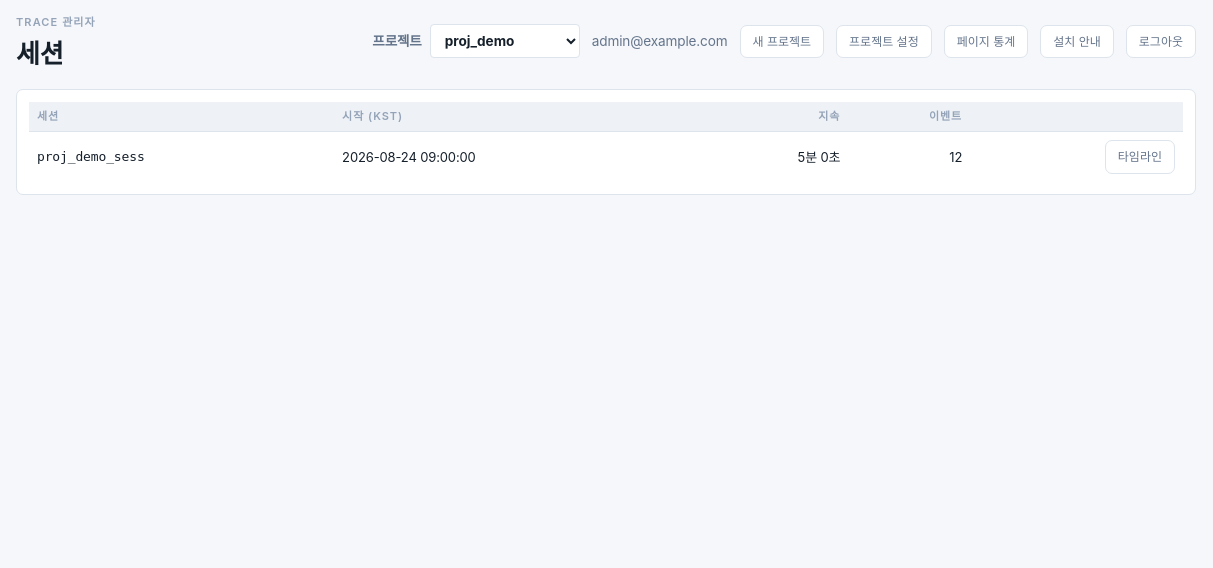
Test: App 프로젝트 전환 동작 › 전환 후 프로젝트 설정 조회는 새 프로젝트 ID를 사용한다
Select "proj_second" in the dropdown labelled "프로젝트" at (505, 41), box left=430, top=24, right=580, bottom=58
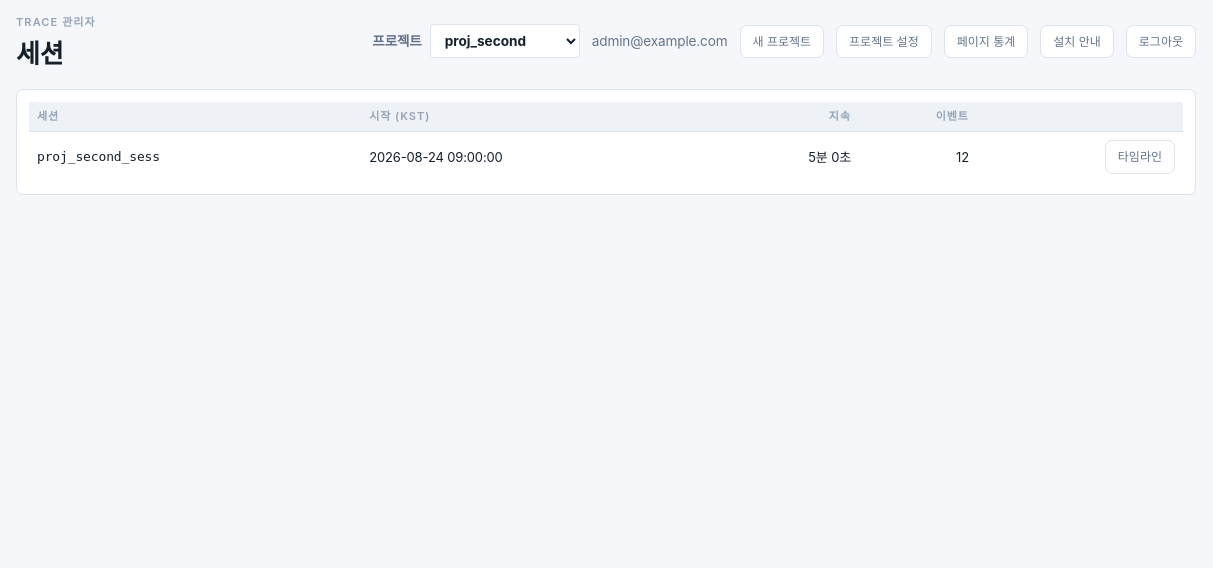
Check: the text "proj_second_sess" is shown, box left=37, top=149, right=160, bottom=164
Click the button "프로젝트 설정".
click(884, 41)  # box left=836, top=25, right=932, bottom=58
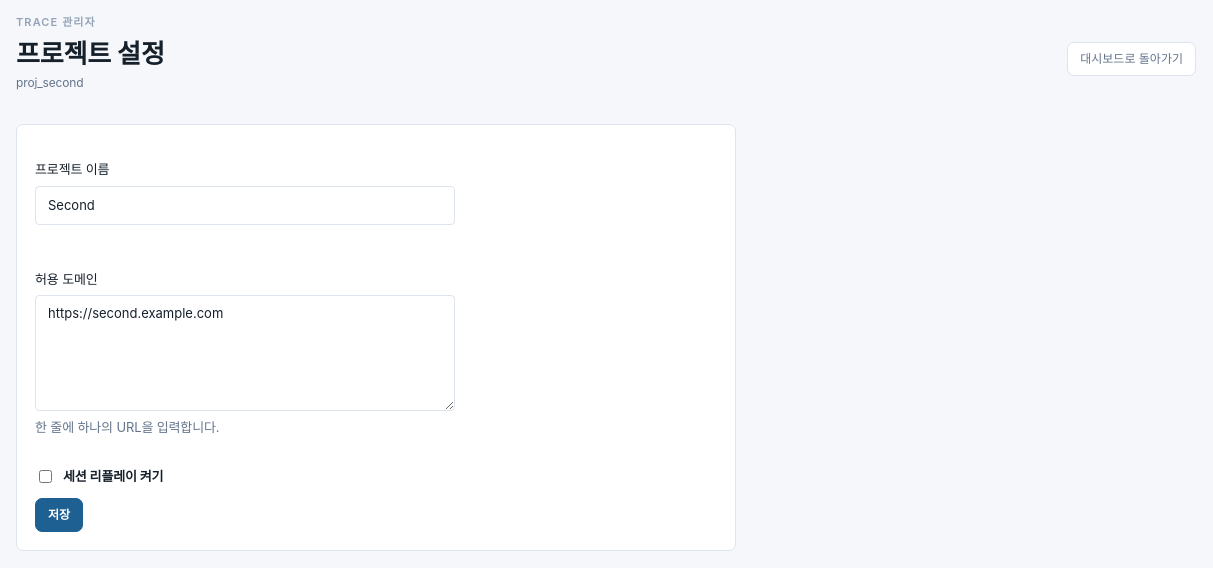
Check: the field showing "Second" is shown, box left=35, top=186, right=455, bottom=225
